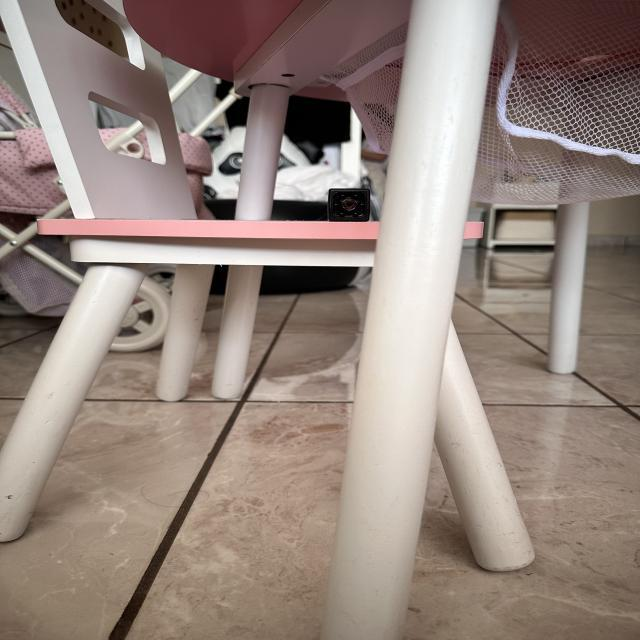hidden camera: (339, 198, 359, 213)
